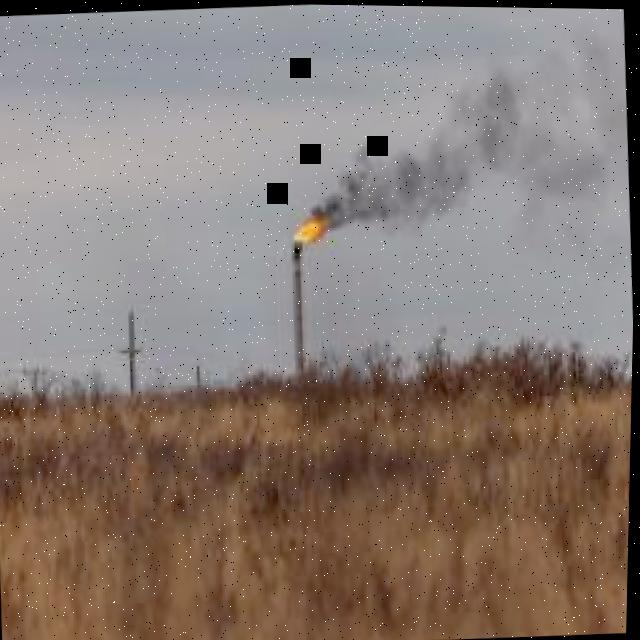fire: (292, 215, 326, 246)
smoke: (310, 13, 633, 277)
